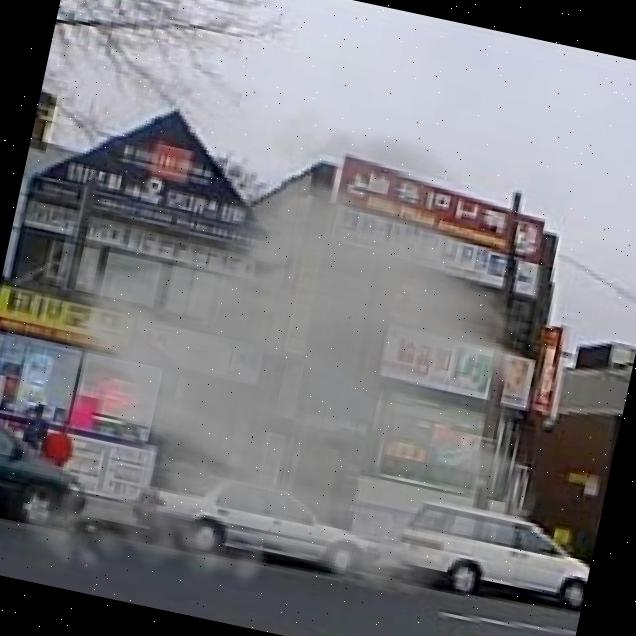smoke: (0, 53, 611, 636)
